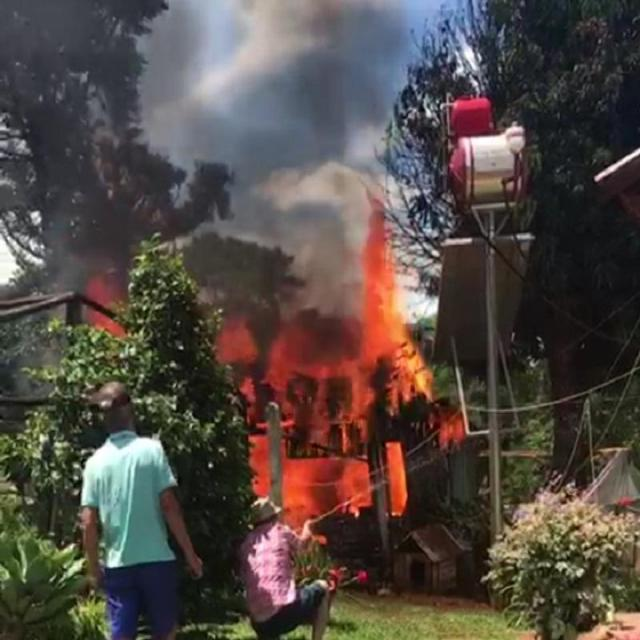fire: (212, 207, 436, 515)
